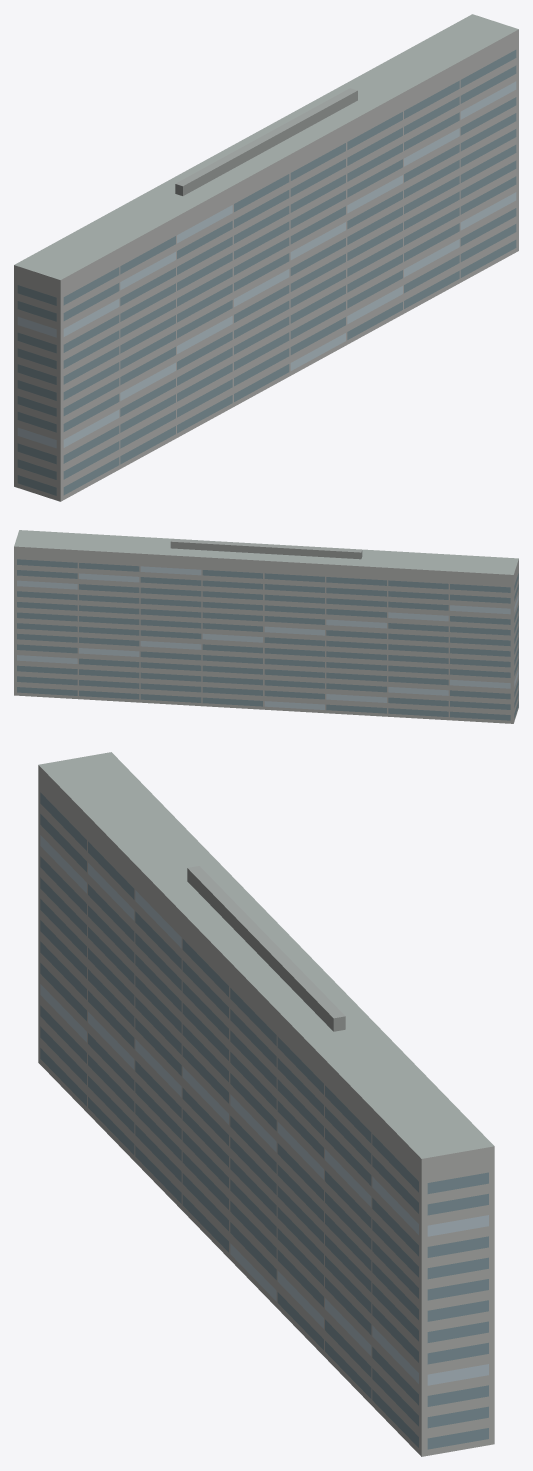
File: fallback-daechi-eunma-15.glb
3 renders of one model, top to bottom at view 1: azimuth 30°, elevation 25°; view 2: azimuth 150°, elevation 25°; view 3: azimuth 270°, elevation 25°, orthographic. The views are drawn at different scales.
Parts seen in each view (by area): view 1: fallback-daechi-eunma-15; view 2: fallback-daechi-eunma-15; view 3: fallback-daechi-eunma-15.
Part boxes in pixels (x1,y1,x2,y2): fallback-daechi-eunma-15: (14, 14, 518, 501); fallback-daechi-eunma-15: (14, 530, 518, 723); fallback-daechi-eunma-15: (38, 752, 494, 1456).
Size of the model in its own units: 125 by 44.62 by 59.26.
